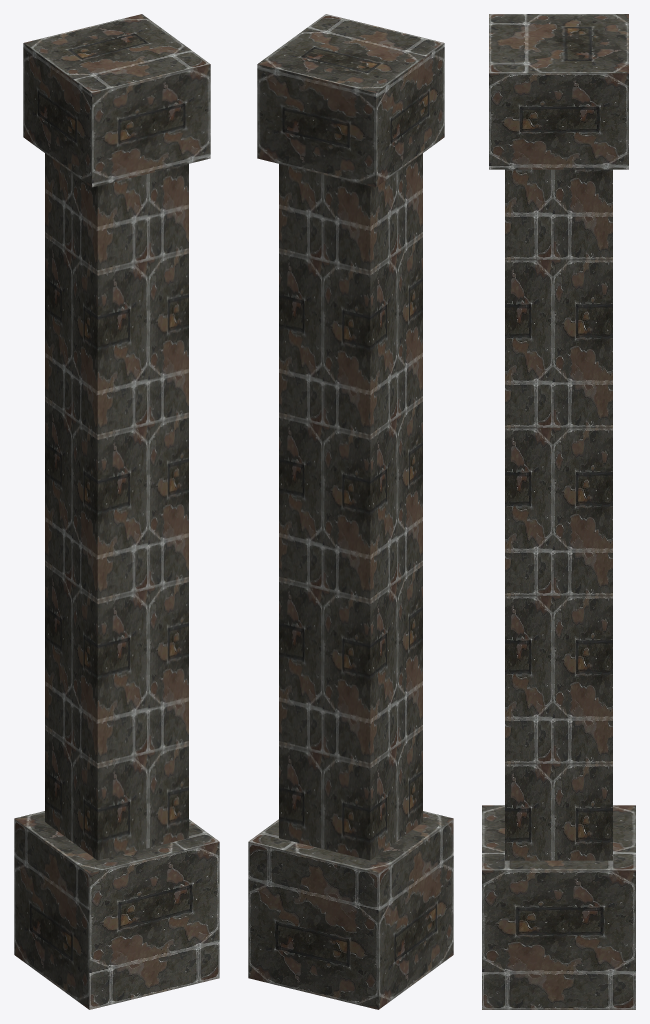
Rendered from pillar_metal3.glb.
3 views of the same model, side by side, from view 1: azimuth 30°, elevation 25°; view 2: azimuth 150°, elevation 25°; view 3: azimuth 270°, elevation 25° (orthographic). The views are drawn at different scales.
Visible parts, largest first — view 1: Cube; view 2: Cube; view 3: Cube.
Part boxes in pixels (<box>): Cube: <box>14,14,219,1009</box>; Cube: <box>248,14,453,1009</box>; Cube: <box>482,14,635,1009</box>.
Size of what is drawn, in the model's own units: 0.8 by 5.35 by 0.8.
Materials: 1 (1 with a texture image).
